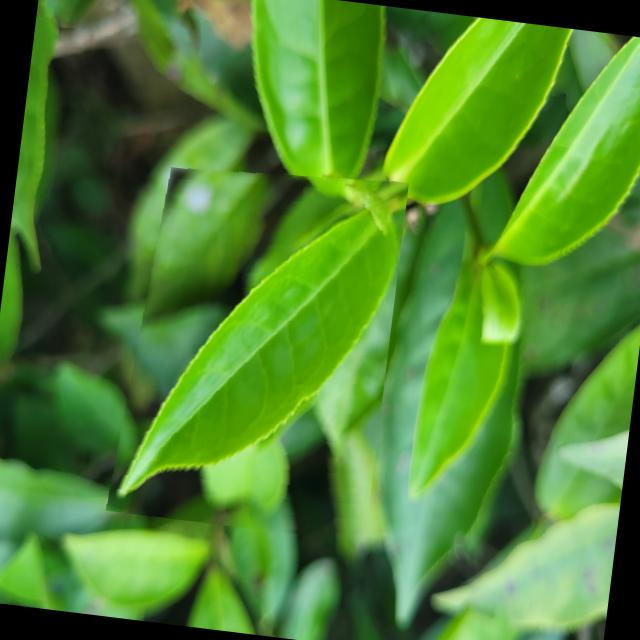Catagory A(1-2 days): (103, 148, 407, 542)
